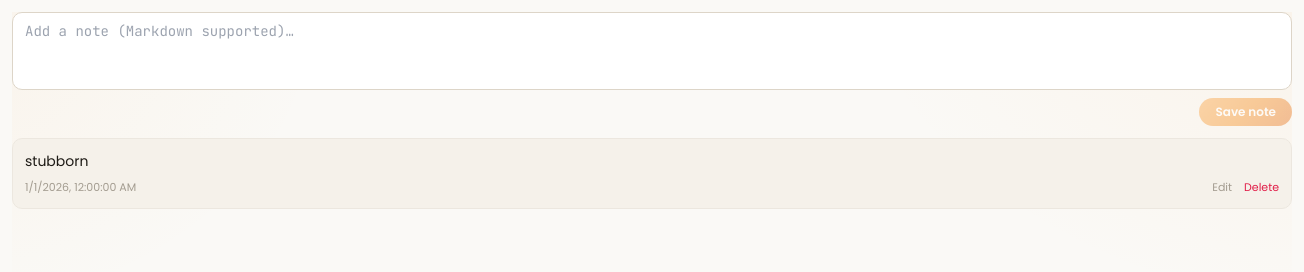
Test: NotesThread — deleting › surfaces a delete failure and keeps the note visible
The width and height of the screenshot is (1304, 272).
expect the text "stubborn" is shown: met, box [25, 151, 88, 171]
Click the button "Delete": (1262, 187) [1244, 179, 1279, 196]
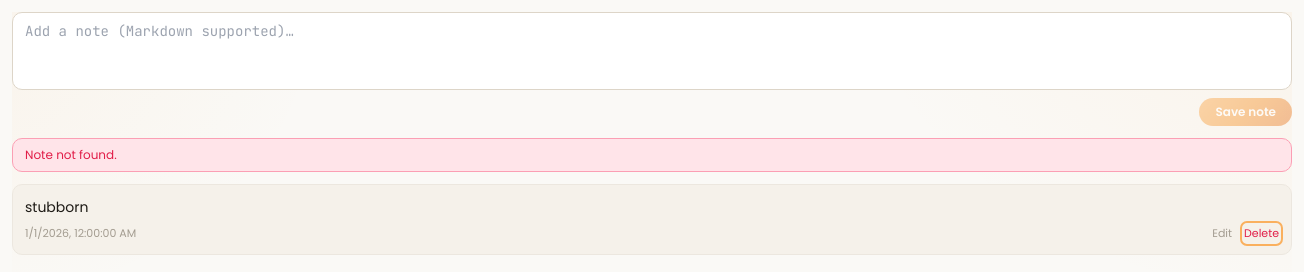
expect the text "stubborn" is shown: met, box [25, 197, 88, 217]
expect the text "Note not found." is shown: met, box [12, 138, 1292, 172]
